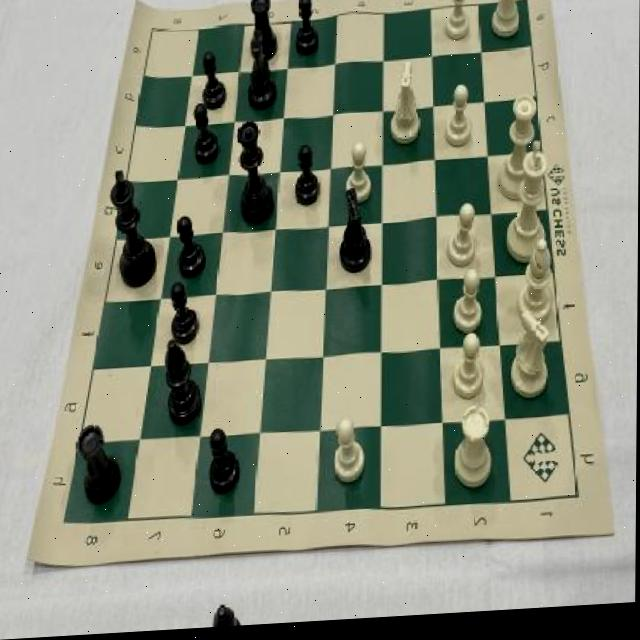black-bishop: (109, 164, 159, 295)
black-king: (158, 338, 205, 432)
black-knight: (206, 425, 248, 499), (167, 278, 203, 350), (175, 213, 208, 284), (291, 142, 322, 212), (189, 104, 221, 169), (200, 51, 231, 115), (293, 0, 323, 62)
black-pawn: (236, 118, 278, 236)
black-queen: (76, 419, 125, 510), (247, 0, 280, 66)
black-rook: (515, 240, 558, 332)
white-bishop: (504, 145, 553, 273)
white-king: (511, 312, 557, 409), (336, 190, 376, 280), (387, 62, 426, 151), (245, 28, 280, 114)
white-knight: (332, 415, 368, 490), (452, 336, 488, 406), (450, 273, 486, 340), (442, 87, 475, 157), (447, 208, 480, 277), (343, 142, 373, 209), (441, 0, 472, 47)
white-pawn: (497, 96, 541, 208)
white-queen: (452, 408, 497, 499), (489, 0, 525, 45)
